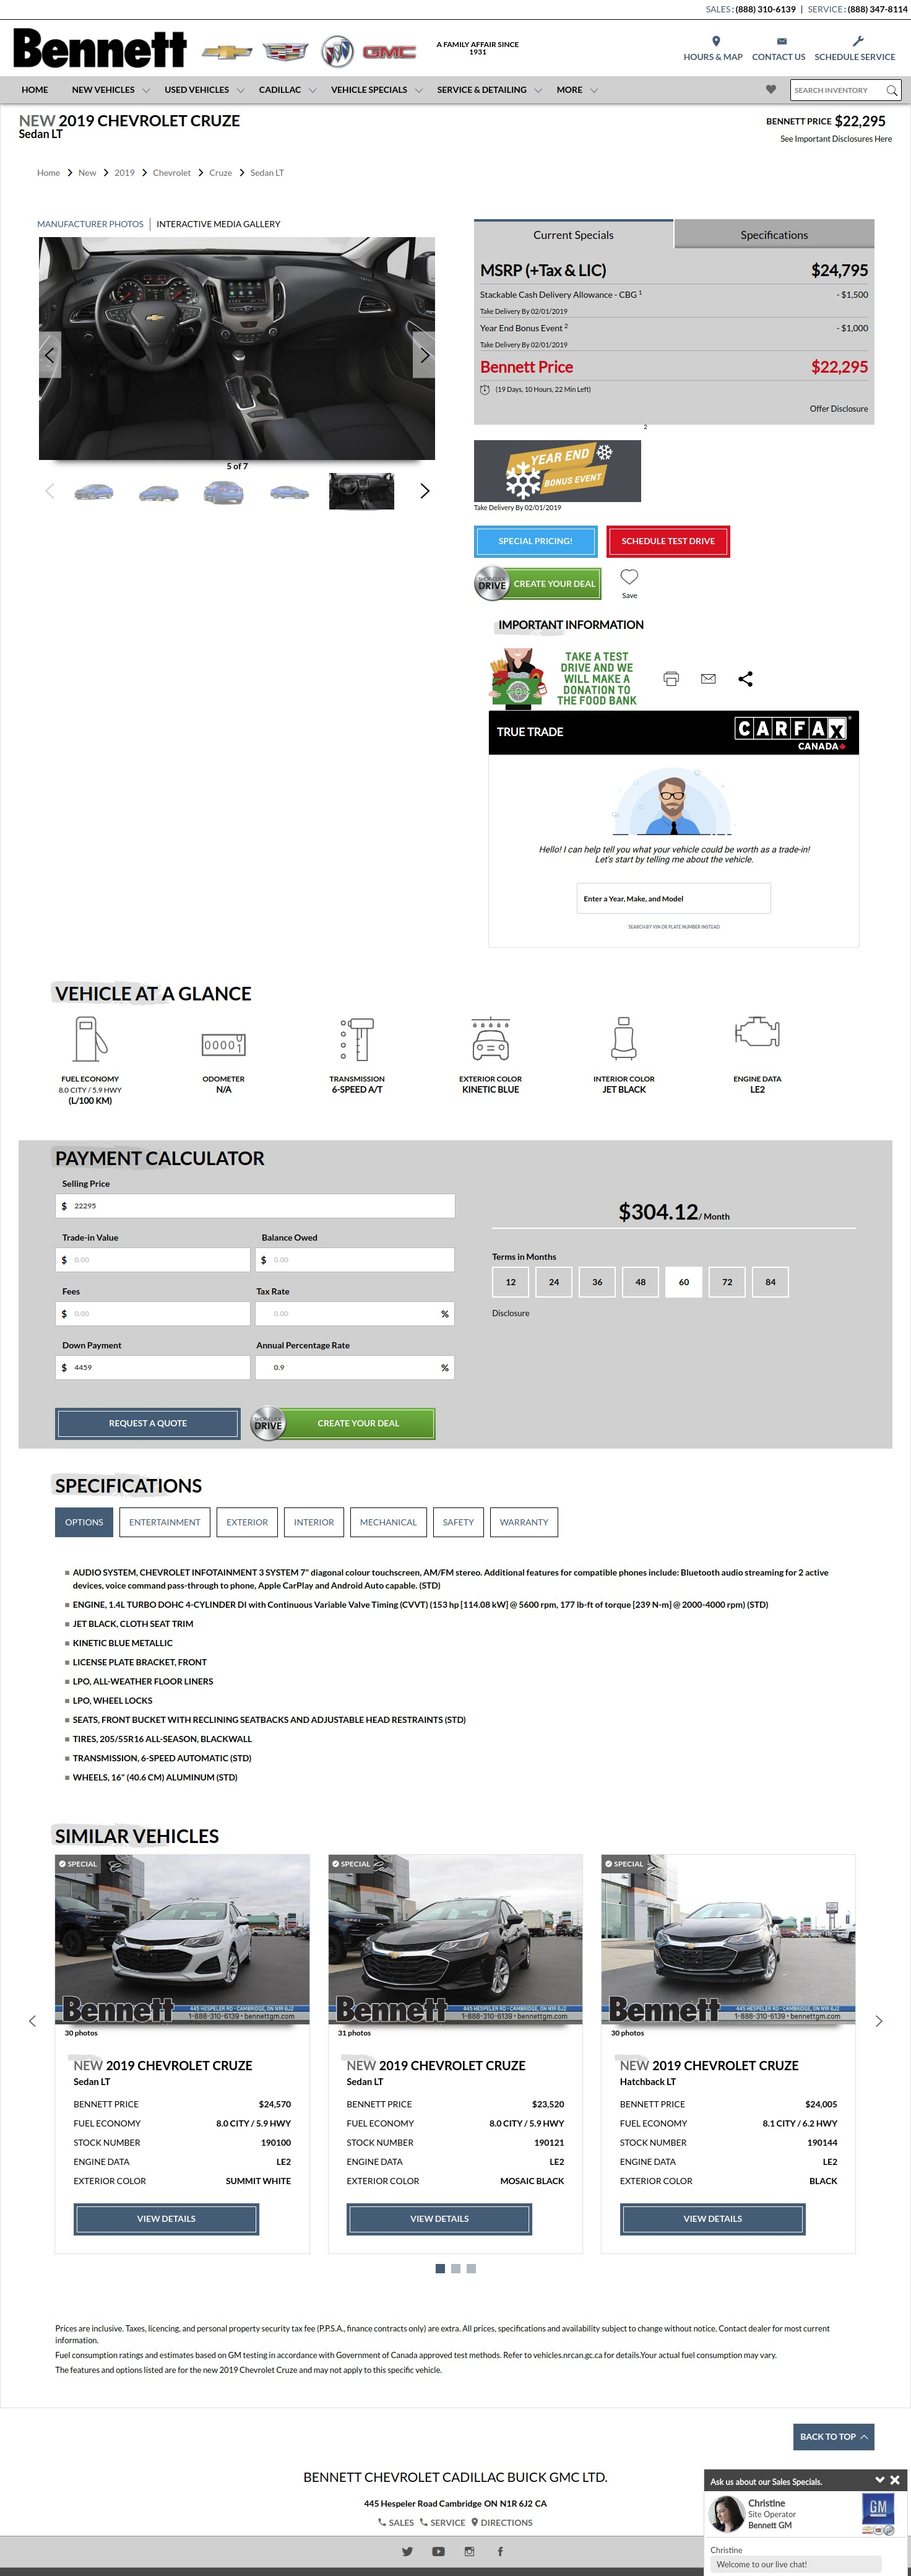car: (420, 483, 430, 499)
